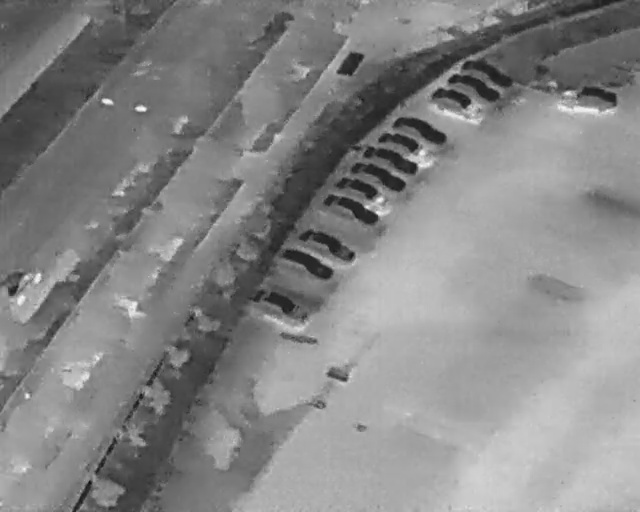Car: (245, 279, 317, 331), (273, 240, 339, 287), (295, 221, 361, 267), (318, 185, 384, 231), (389, 108, 452, 151), (443, 65, 506, 108), (457, 51, 519, 94), (361, 140, 423, 180), (333, 168, 391, 210), (350, 155, 409, 195), (557, 84, 618, 115), (429, 81, 479, 117), (375, 125, 425, 160), (1, 268, 43, 302)
